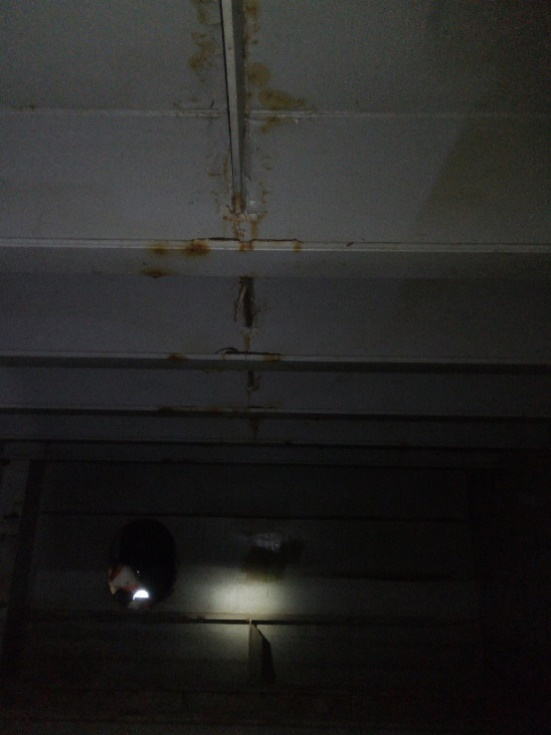corrosion: (229, 0, 309, 112), (172, 0, 218, 113), (249, 132, 283, 240), (238, 271, 279, 326)
